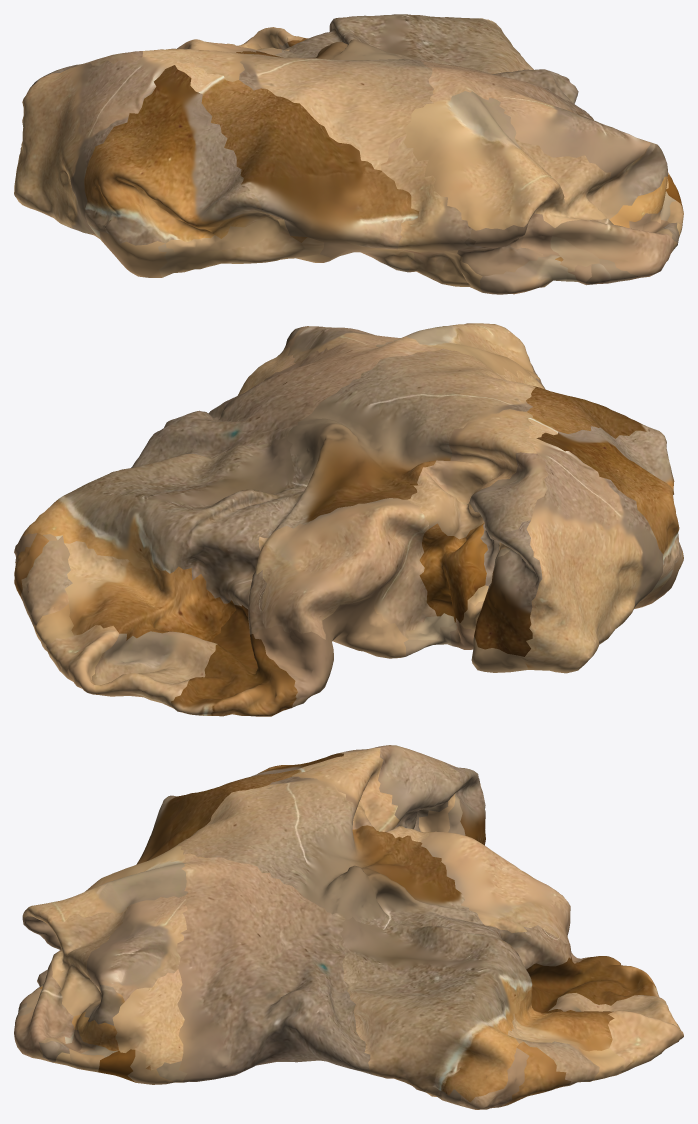
Rendered from 3DModel.obj.
3 views of the same model, one above another, from view 1: azimuth 30°, elevation 25°; view 2: azimuth 150°, elevation 25°; view 3: azimuth 270°, elevation 25° (orthographic). The views are drawn at different scales.
Parts seen in each view (by area): view 1: 3DModel; view 2: 3DModel; view 3: 3DModel.
Part boxes in pixels (box(x1,y1,x2,y2)): 3DModel: box(14, 14, 683, 294); 3DModel: box(14, 323, 683, 716); 3DModel: box(14, 745, 683, 1109).
Size of the model in its own units: 0.4101 by 0.1405 by 0.4742.
